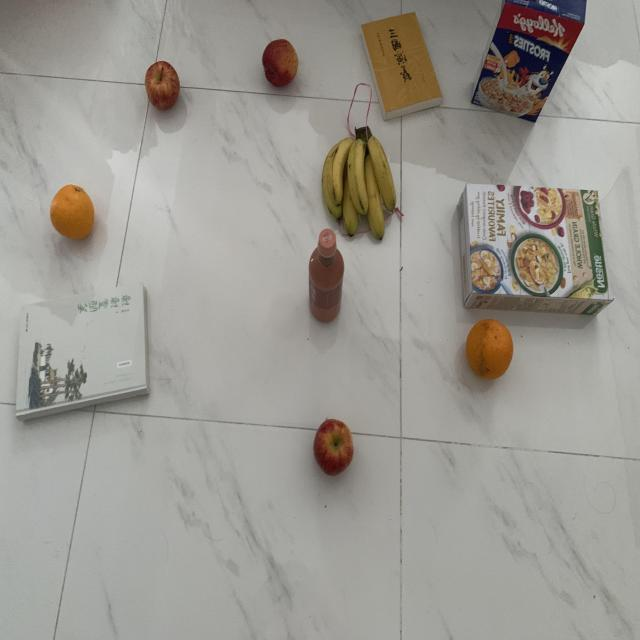apple: (310, 418, 360, 479), (258, 36, 302, 88), (142, 60, 182, 115)
banana: (320, 125, 398, 244)
orange: (462, 318, 516, 382), (45, 184, 96, 248)
